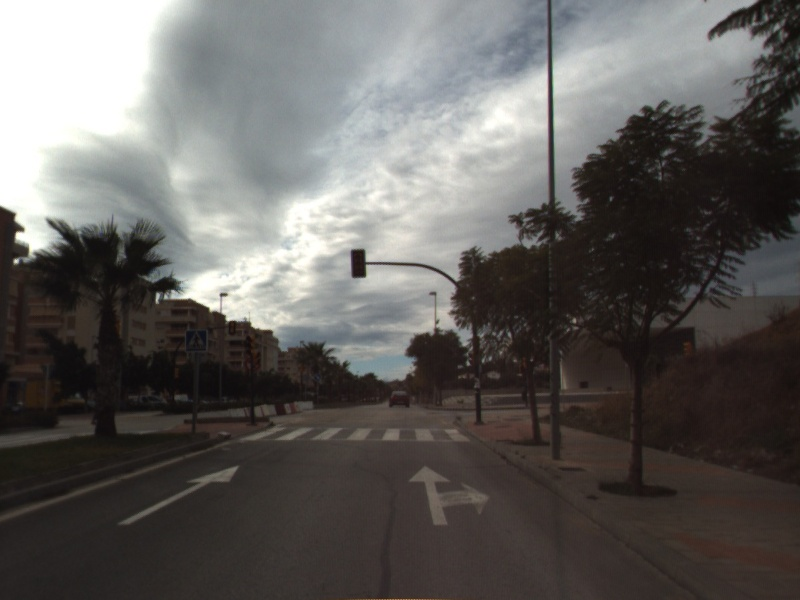STRAIGHT: (115, 464, 241, 527)
STRAIGHT_RIGHT: (406, 463, 492, 528)
